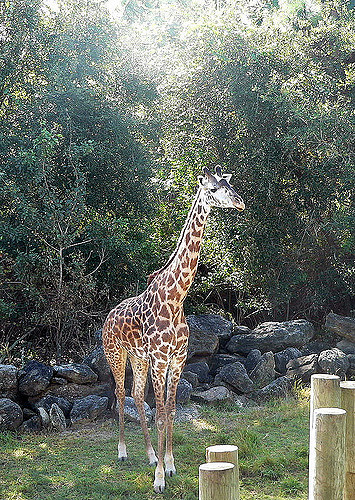giraffe: (94, 161, 260, 487)
